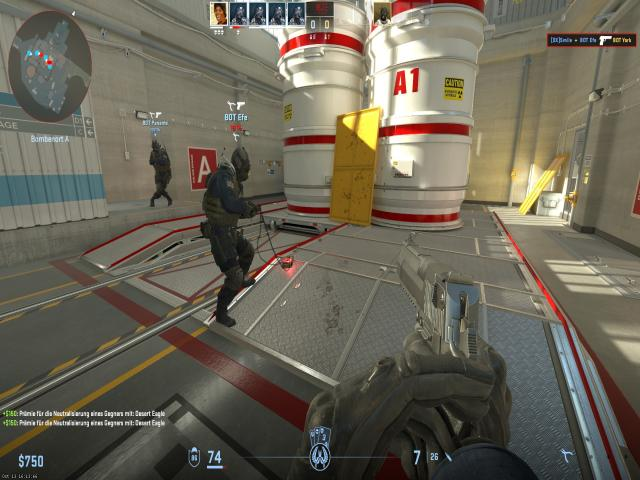Bomb: (279, 253, 297, 276)
CT: (207, 150, 248, 302), (153, 137, 169, 202)
CT-Head: (232, 149, 250, 178), (152, 139, 162, 153)
